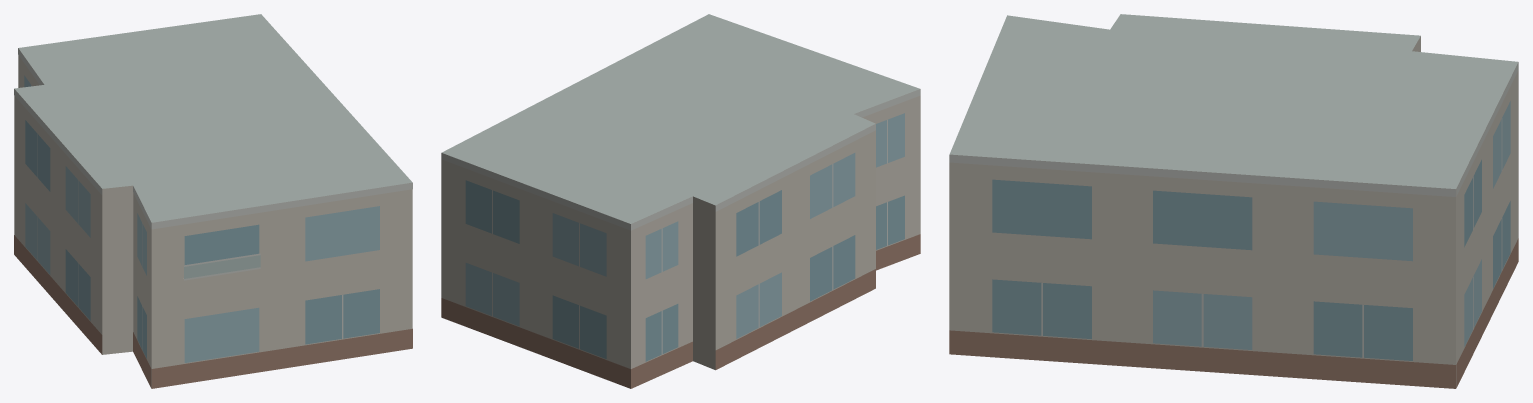
Rendered from survey-upis-32922162.glb.
3 views of the same model, side by side, from view 1: azimuth 30°, elevation 25°; view 2: azimuth 150°, elevation 25°; view 3: azimuth 270°, elevation 25° (orthographic). The views are drawn at different scales.
Parts seen in each view (by area): view 1: survey-upis-32922162.tmp; view 2: survey-upis-32922162.tmp; view 3: survey-upis-32922162.tmp.
Boxes of the visible parts, left/top/right/bottom form: survey-upis-32922162.tmp: left=14, top=14, right=412, bottom=388; survey-upis-32922162.tmp: left=441, top=14, right=920, bottom=388; survey-upis-32922162.tmp: left=949, top=14, right=1518, bottom=388.
Size of the model in its own units: 11.48 by 6.1 by 15.76.
